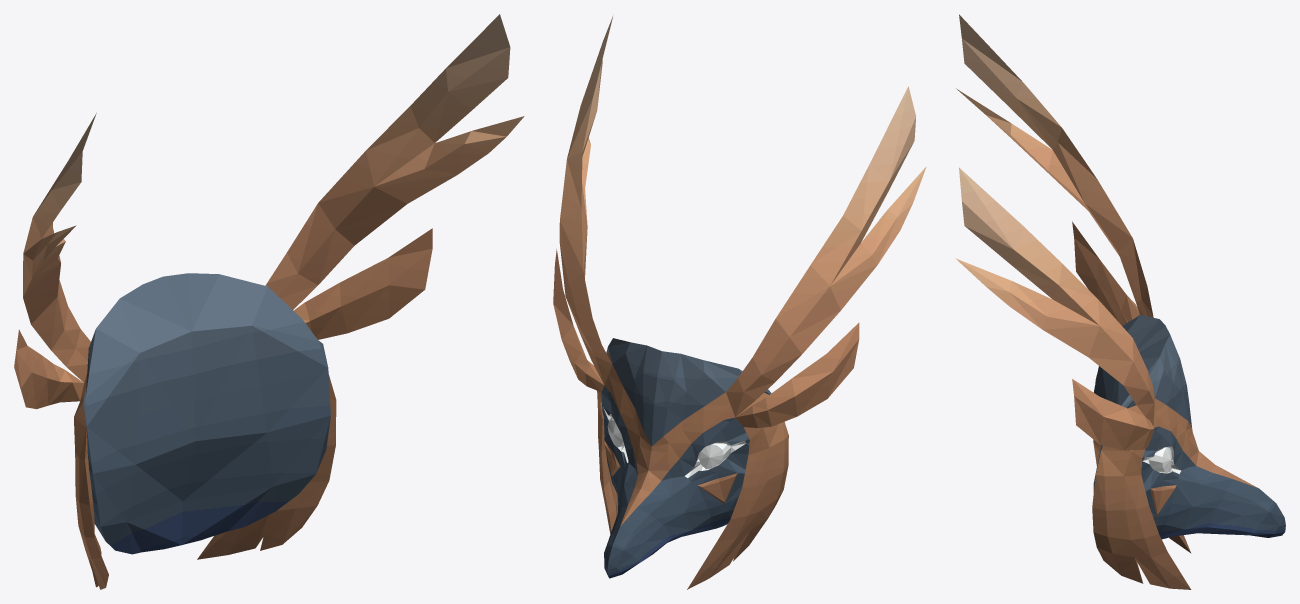
The model's file is CharSkyKid_Mask_AP14LongTufts_01.glb.
3 renders of one model, left to right at view 1: azimuth 30°, elevation 25°; view 2: azimuth 150°, elevation 25°; view 3: azimuth 270°, elevation 25°, orthographic. The views are drawn at different scales.
Visible parts, largest first — view 1: CharSkyKid_Mask_AP14LongTufts_01; view 2: CharSkyKid_Mask_AP14LongTufts_01; view 3: CharSkyKid_Mask_AP14LongTufts_01.
Part boxes in pixels (left/top/right/bottom): CharSkyKid_Mask_AP14LongTufts_01: left=14, top=14, right=524, bottom=589; CharSkyKid_Mask_AP14LongTufts_01: left=553, top=16, right=926, bottom=589; CharSkyKid_Mask_AP14LongTufts_01: left=955, top=14, right=1285, bottom=589.
Size of the model in its own units: 3.85 by 5.03 by 3.13.
1 material, 1 textured.
